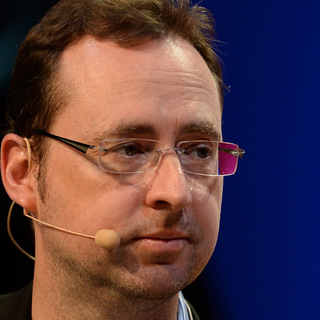eye: (104, 139, 146, 162), (183, 141, 216, 164)
